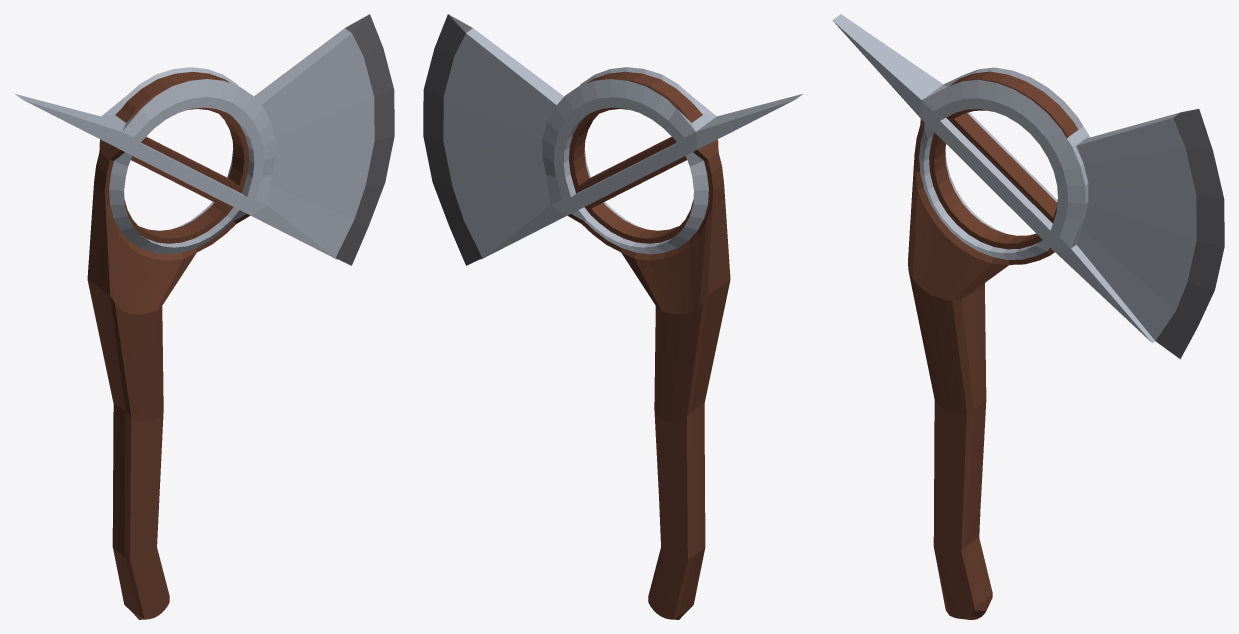
Rendered from Axe 1 Fagerone.fbx.
The picture shows the model from 3 angles, left to right: view 1: azimuth 30°, elevation 25°; view 2: azimuth 150°, elevation 25°; view 3: azimuth 330°, elevation 25°; orthographic projection. The views are drawn at different scales.
Visible parts, largest first — view 1: Cylinder.001; view 2: Cylinder.001; view 3: Cylinder.001.
Boxes of the visible parts, left/top/right/bottom form: Cylinder.001: left=15, top=14, right=394, bottom=619; Cylinder.001: left=423, top=14, right=802, bottom=619; Cylinder.001: left=832, top=14, right=1224, bottom=619.
Bounding box in the file's own units: 3.36 × 4.72 × 0.4082.
1 material, 1 textured.
